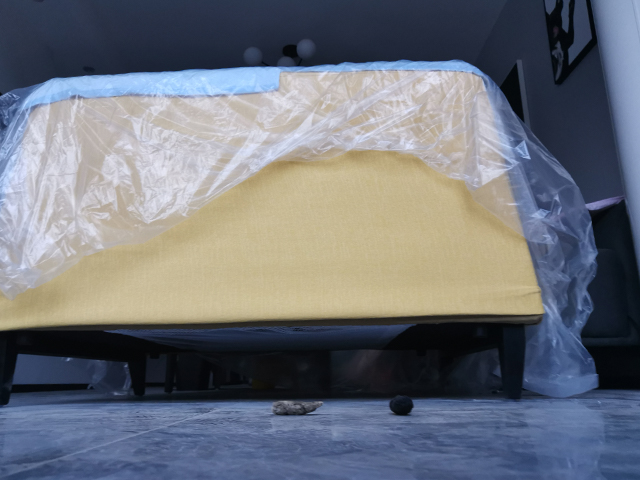feces: (270, 398, 326, 417), (386, 393, 417, 416)
sofa: (1, 58, 548, 408)
trashcan: (174, 351, 209, 391)
